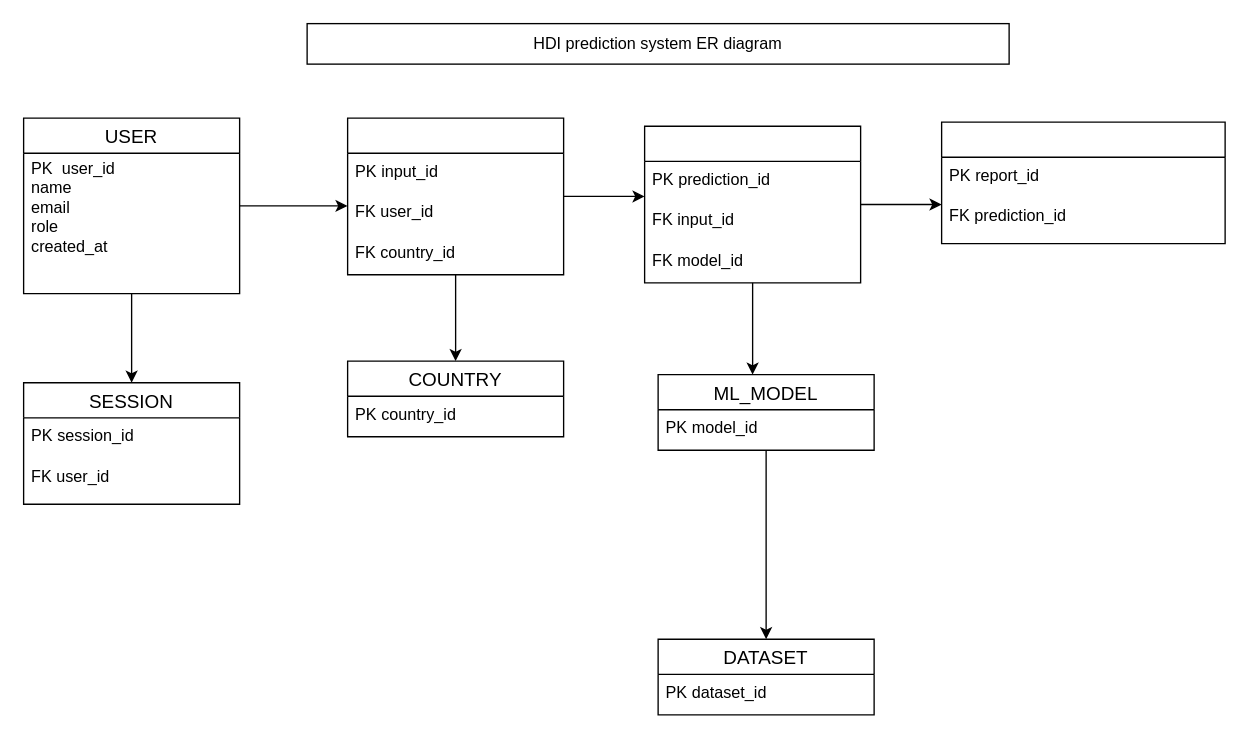
Image size: 1249x743. Some labels were removed from this diagram. Each missing label, with the box of its shape:
HDI_INPUT_DATA: (346, 117, 564, 275)
HDI_PREDICTION: (643, 125, 861, 283)
VISUALIZATION_REPORT: (940, 121, 1225, 244)
